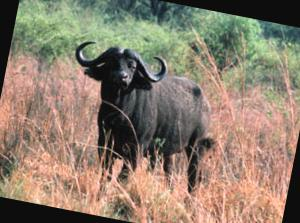Buffalo: (37, 22, 256, 217)
